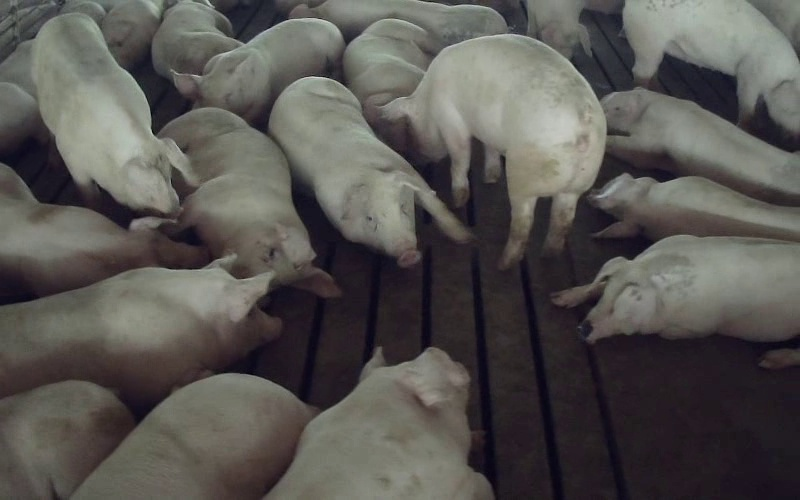pig: (382, 34, 605, 268), (0, 256, 280, 404), (269, 77, 471, 266), (266, 348, 492, 499), (159, 108, 338, 297), (32, 13, 187, 215), (71, 374, 314, 499), (552, 236, 799, 342), (623, 0, 799, 135), (601, 88, 799, 204), (172, 18, 344, 126), (0, 380, 133, 499), (588, 173, 799, 241), (343, 19, 433, 152), (289, 0, 507, 48)
